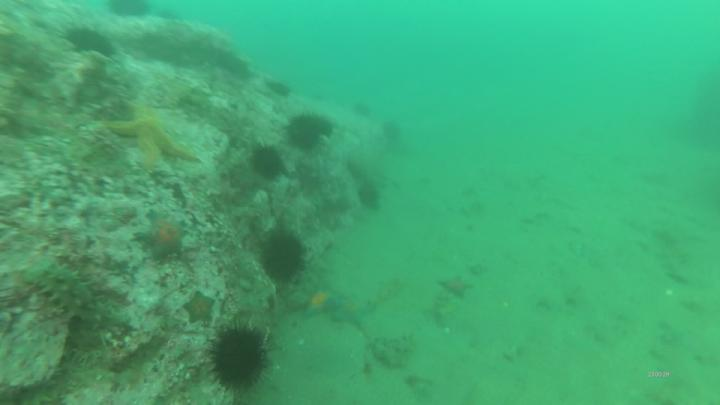echinus: (215, 329, 266, 384), (263, 228, 306, 283), (285, 114, 330, 152), (251, 147, 287, 183), (67, 27, 110, 57), (112, 2, 153, 17), (360, 185, 382, 206)
holothurian: (28, 263, 131, 331)
starfish: (104, 101, 199, 173), (138, 215, 188, 260), (300, 285, 340, 317), (182, 295, 218, 325), (337, 302, 375, 328), (441, 277, 475, 297)
